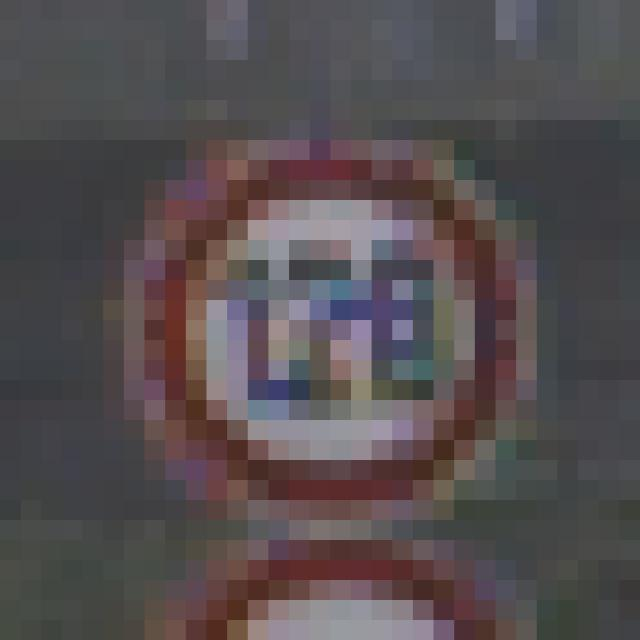Ograniczenie predkosci do 120: (155, 155, 518, 510)
